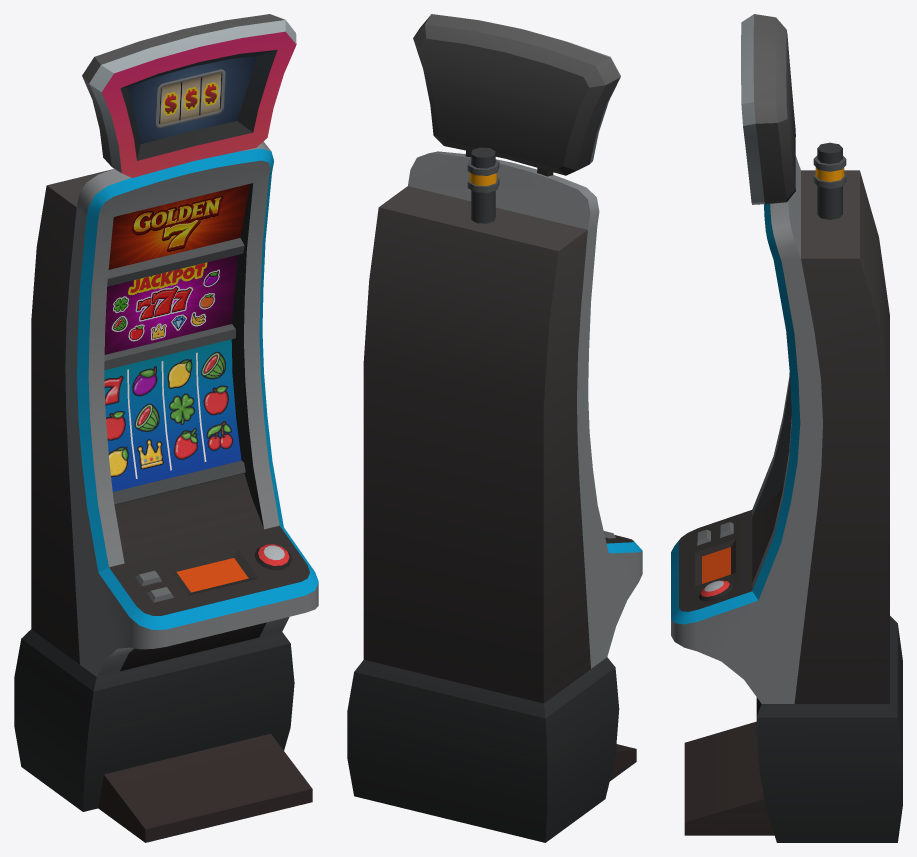
Rendered from Slot_Machine_02.obj.
3 renders of one model, left to right at view 1: azimuth 30°, elevation 25°; view 2: azimuth 150°, elevation 25°; view 3: azimuth 270°, elevation 25°, orthographic. The views are drawn at different scales.
Parts seen in each view (by area): view 1: Slot_Machine_02, Slot_07, Slot_08, Slot_06, Slot_05; view 2: Slot_Machine_02; view 3: Slot_Machine_02.
Part boxes in pixels (<box>): Slot_Machine_02: <box>14,14,318,842</box>; Slot_07: <box>167,359,198,459</box>; Slot_08: <box>201,351,233,450</box>; Slot_06: <box>132,366,163,469</box>; Slot_05: <box>104,375,128,477</box>; Slot_Machine_02: <box>347,14,642,842</box>; Slot_Machine_02: <box>671,14,902,842</box>.
Size of the model in its own units: 0.8656 by 3.04 by 0.8581.
Materials: 4 (4 with a texture image).
